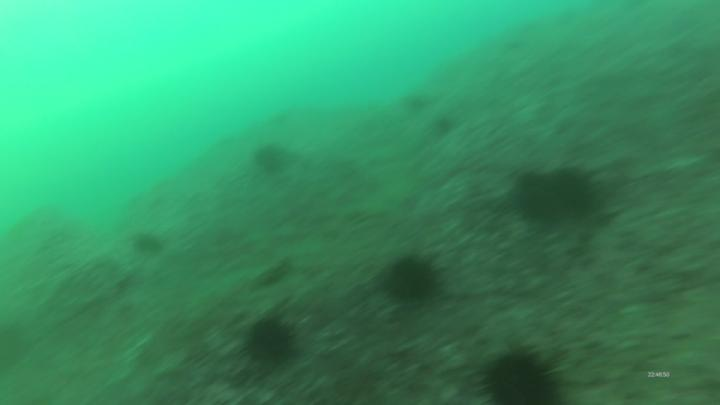echinus: (508, 168, 603, 231), (471, 345, 568, 405), (379, 253, 444, 307), (243, 316, 300, 368), (129, 232, 168, 264), (253, 143, 289, 175), (431, 114, 456, 143), (400, 93, 432, 115)
